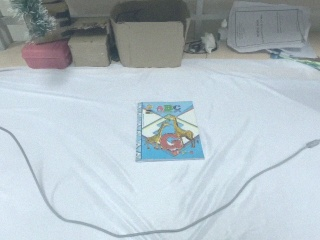book: (128, 99, 206, 163)
box: (109, 1, 190, 70), (67, 16, 114, 68)
